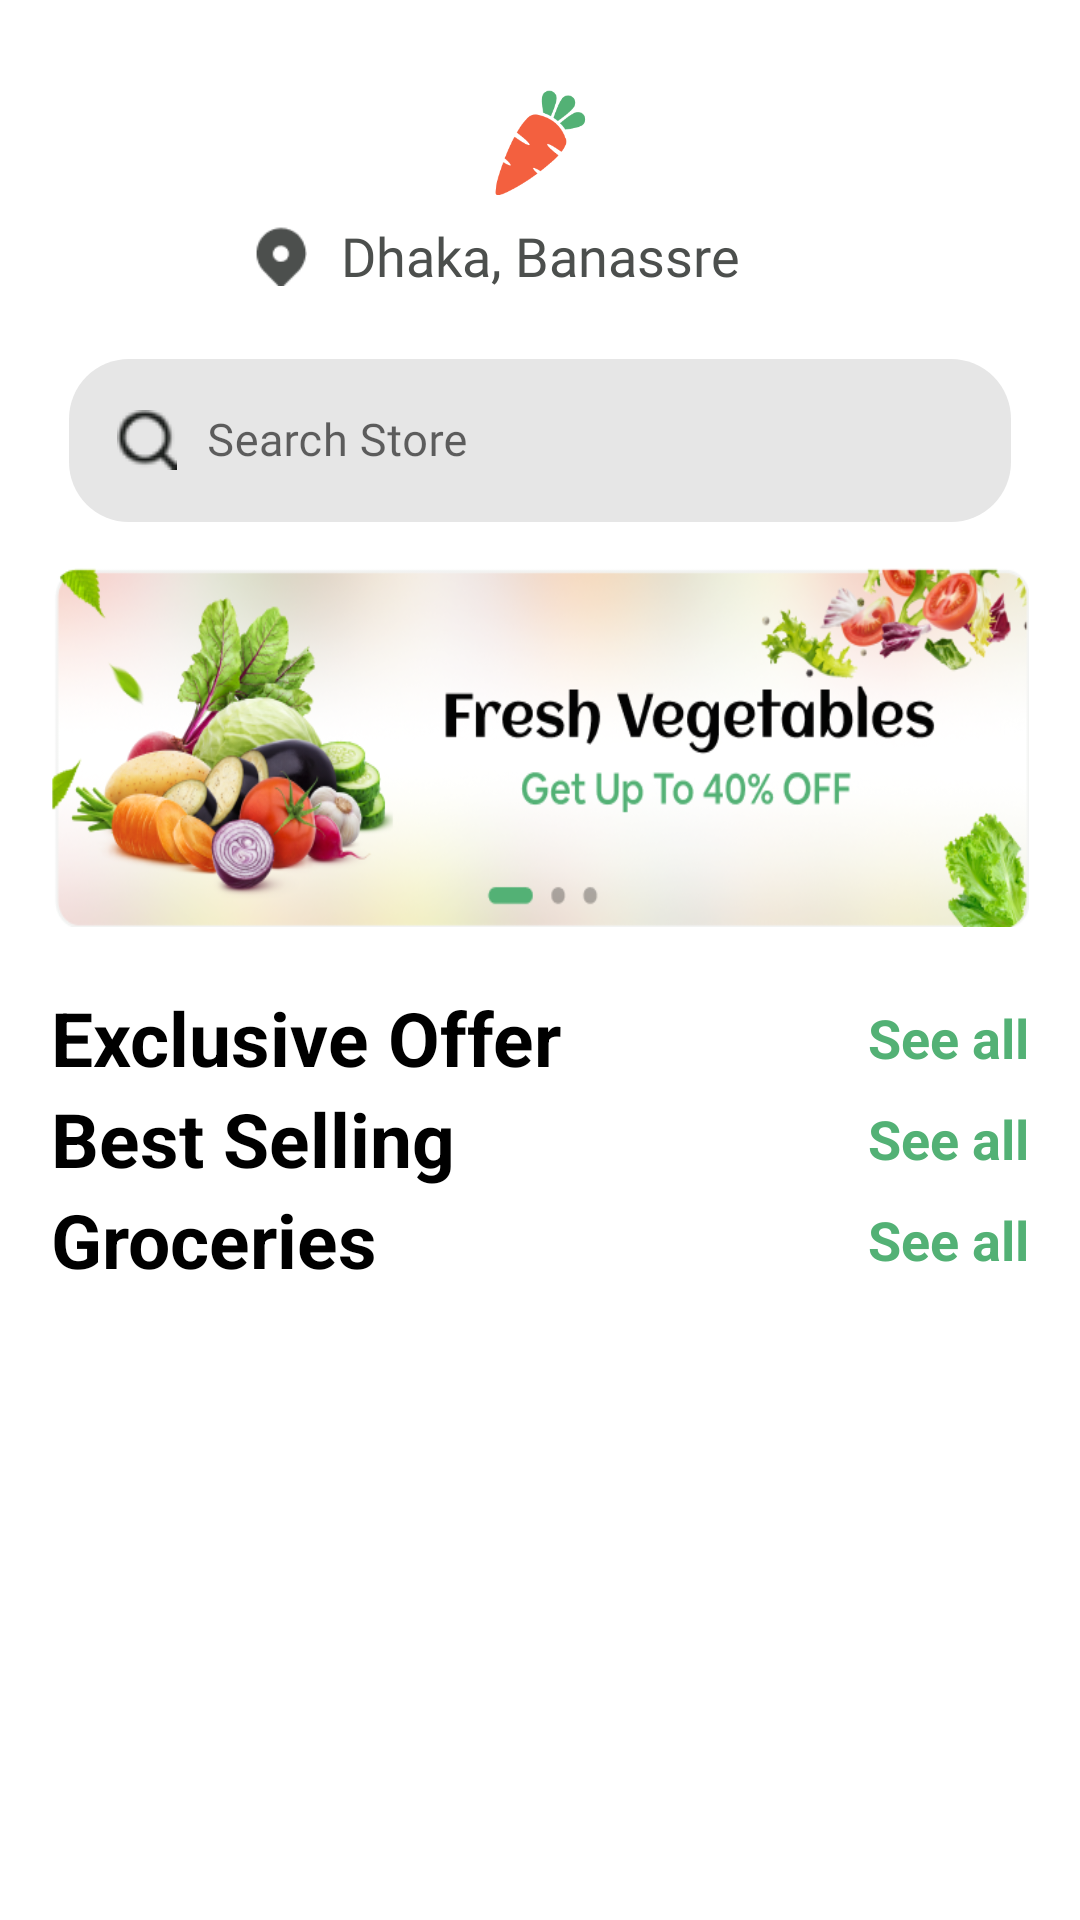

Screen size 1080px x 1920px. Icon name, then its box in pixels as (x1, y1, x2, y2):
carrot: (495, 90, 585, 195)
location: (256, 227, 307, 286)
